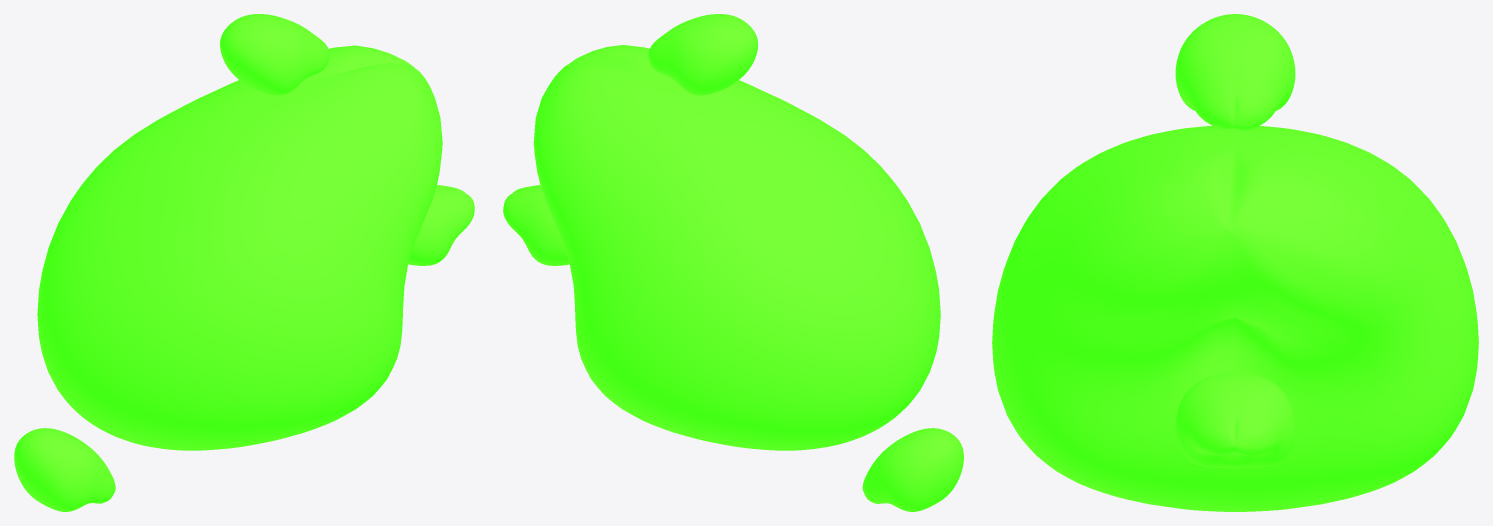
File: blob.fbx
3 renders of one model, left to right at view 1: azimuth 30°, elevation 25°; view 2: azimuth 150°, elevation 25°; view 3: azimuth 270°, elevation 25°, orthographic. The views are drawn at different scales.
Parts seen in each view (by area): view 1: Sphere.002, Sphere.006, Sphere.005, Sphere.004; view 2: Sphere.002, Sphere.006, Sphere.005, Sphere.004; view 3: Sphere.002, Sphere.006, Sphere.004.
Part boxes in pixels (left/top/right/bottom): Sphere.002: left=37, top=45, right=442, bottom=450; Sphere.006: left=220, top=14, right=329, bottom=95; Sphere.005: left=14, top=428, right=115, bottom=511; Sphere.004: left=408, top=185, right=474, bottom=265; Sphere.002: left=533, top=45, right=940, bottom=450; Sphere.006: left=648, top=14, right=758, bottom=95; Sphere.005: left=862, top=428, right=963, bottom=511; Sphere.004: left=503, top=185, right=569, bottom=265; Sphere.002: left=992, top=125, right=1478, bottom=511; Sphere.006: left=1175, top=14, right=1295, bottom=130; Sphere.004: left=1175, top=373, right=1295, bottom=468.
Bounding box in the file's own units: 38.08 × 35.39 × 28.22.
